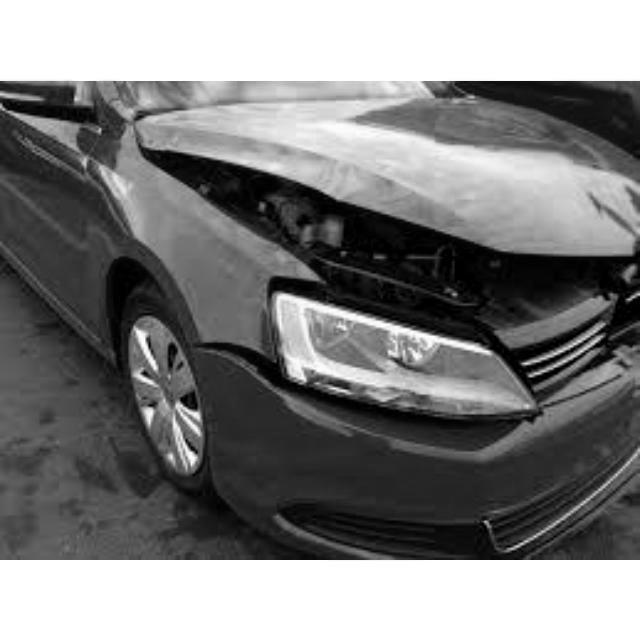bonnet-dent: (185, 103, 637, 280)
